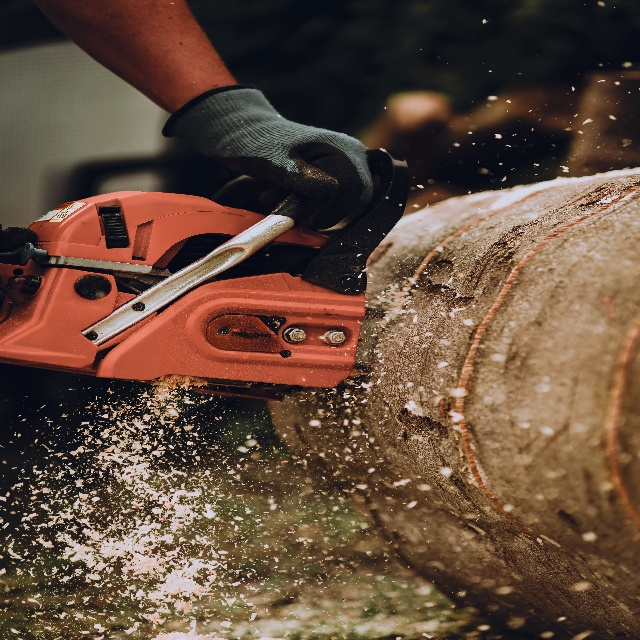Guantes: (162, 78, 391, 230)
